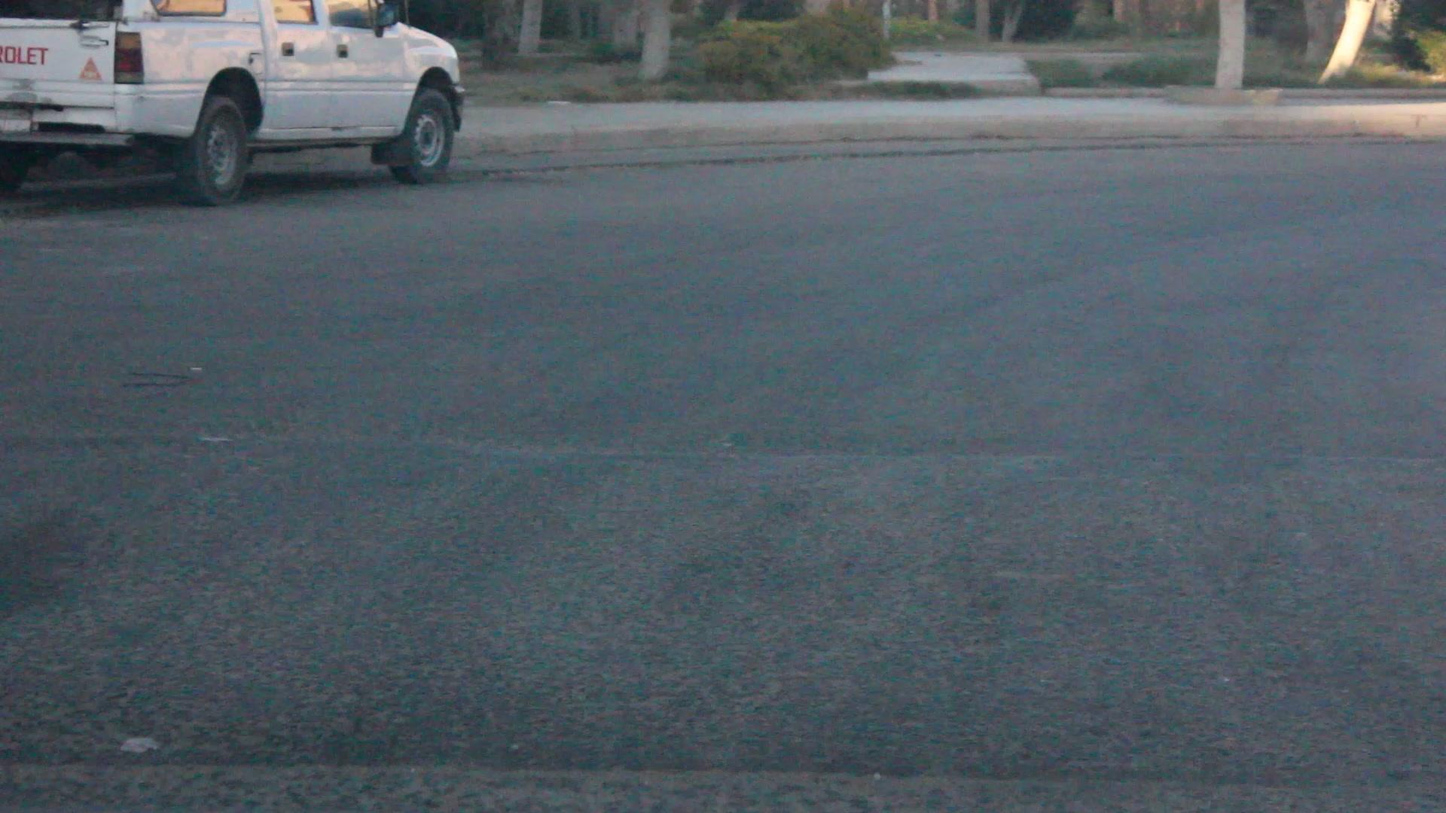Bump: (0, 427, 1446, 755)
